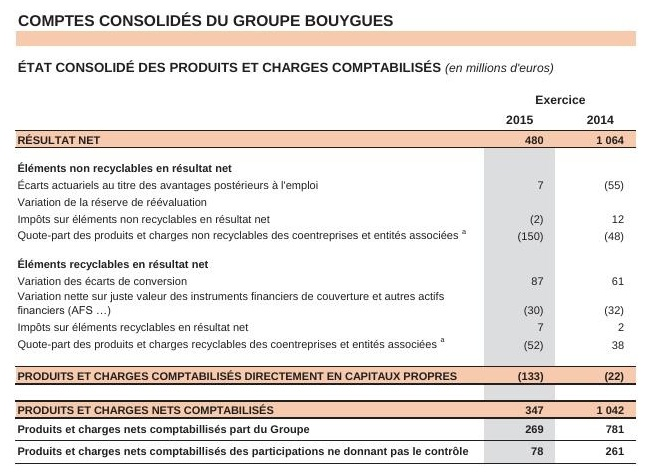table: (0, 0, 654, 473)
